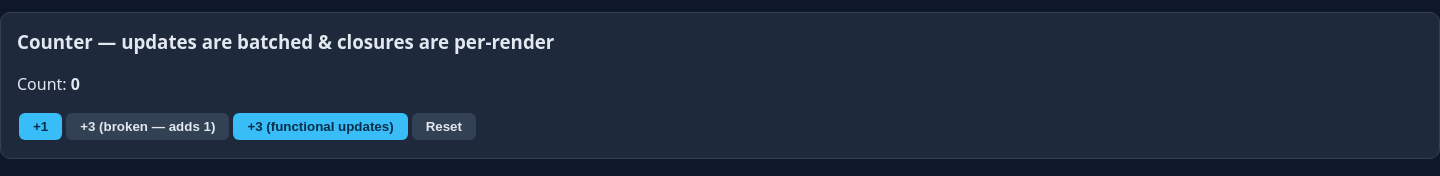
Counter (concept 03) › increments by one on click
Click the button "+1". click: [41, 126]
box: [19,113,62,140]
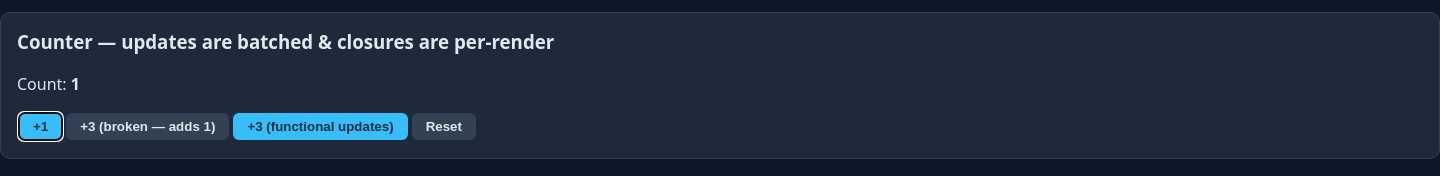
Now the text with test id "count" reads "1", box [71,73,80,95]
